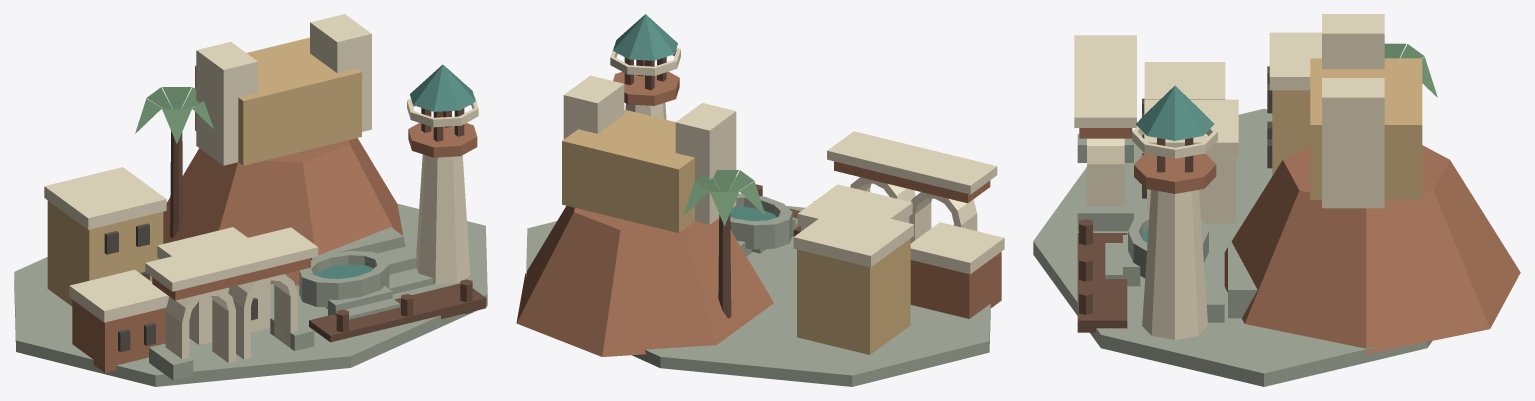
The model's file is aden.glb.
The picture shows the model from 3 angles, left to right: view 1: azimuth 30°, elevation 25°; view 2: azimuth 150°, elevation 25°; view 3: azimuth 270°, elevation 25°; orthographic projection. The views are drawn at different scales.
Visible parts, largest first — view 1: aden_cream, aden_stone, aden_brick, aden_sandstone, aden_dark_wood, aden_teal, aden_foliage, aden_deep_shadow; view 2: aden_brick, aden_cream, aden_sandstone, aden_stone, aden_teal, aden_foliage, aden_dark_wood; view 3: aden_brick, aden_cream, aden_stone, aden_sandstone, aden_dark_wood, aden_teal, aden_foliage, aden_deep_shadow.
Boxes of the visible parts, x1,y1,x2,y2 form: aden_cream: [44, 14, 478, 363]; aden_stone: [14, 203, 487, 386]; aden_brick: [72, 123, 477, 373]; aden_sandstone: [47, 37, 361, 306]; aden_dark_wood: [170, 108, 486, 342]; aden_teal: [315, 64, 475, 278]; aden_foliage: [135, 87, 213, 143]; aden_deep_shadow: [104, 223, 257, 352]; aden_brick: [516, 71, 1001, 356]; aden_cream: [563, 45, 1004, 274]; aden_sandstone: [562, 109, 910, 354]; aden_stone: [526, 193, 990, 386]; aden_teal: [613, 14, 776, 220]; aden_foliage: [683, 170, 765, 225]; aden_dark_wood: [624, 57, 814, 318]; aden_brick: [1079, 128, 1520, 354]; aden_cream: [1074, 14, 1384, 339]; aden_stone: [1033, 108, 1432, 386]; aden_sandstone: [1272, 58, 1422, 199]; aden_dark_wood: [1077, 138, 1193, 332]; aden_teal: [1135, 85, 1214, 242]; aden_foliage: [1384, 43, 1437, 97]; aden_deep_shadow: [1142, 66, 1272, 198].
Bounding box in the file's own units: 2.1 × 0.945 × 1.63.
